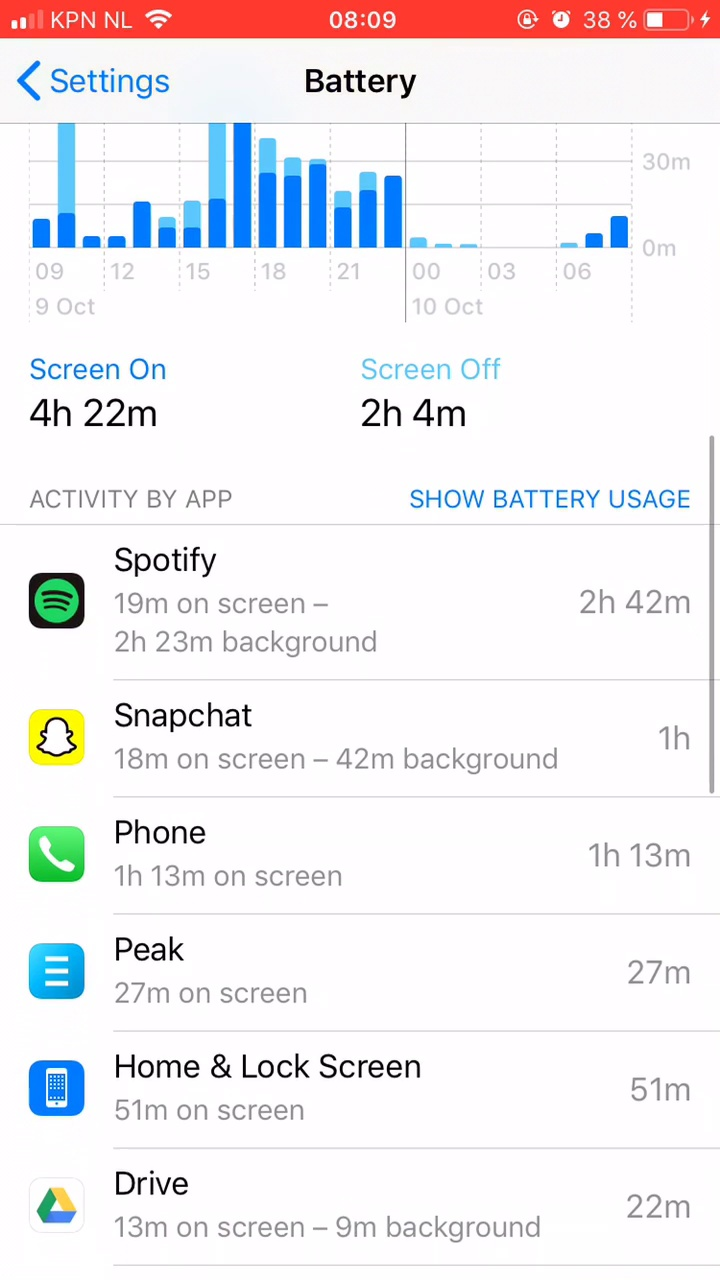app: (23, 545, 693, 659), (21, 690, 695, 782), (21, 803, 695, 895), (23, 924, 697, 1016), (30, 1040, 704, 1132), (33, 1154, 707, 1246)
